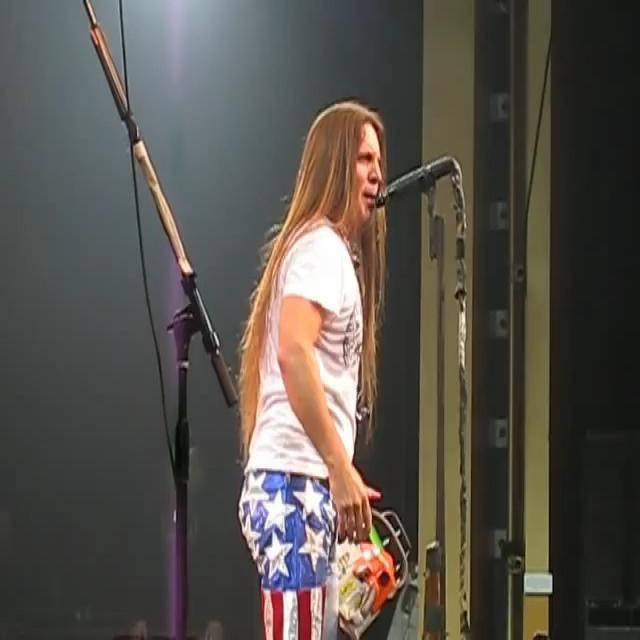Chainsaw: (316, 486, 428, 640)
